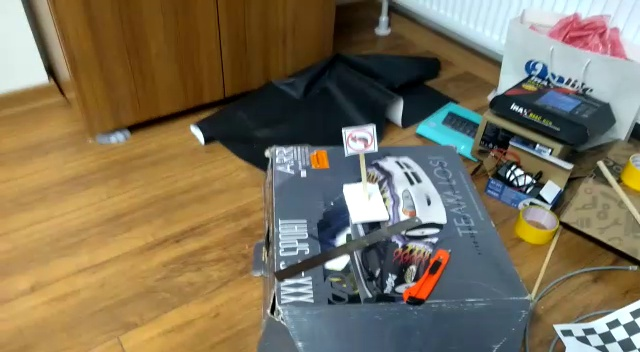sola_donulmez: (346, 127, 375, 154)
